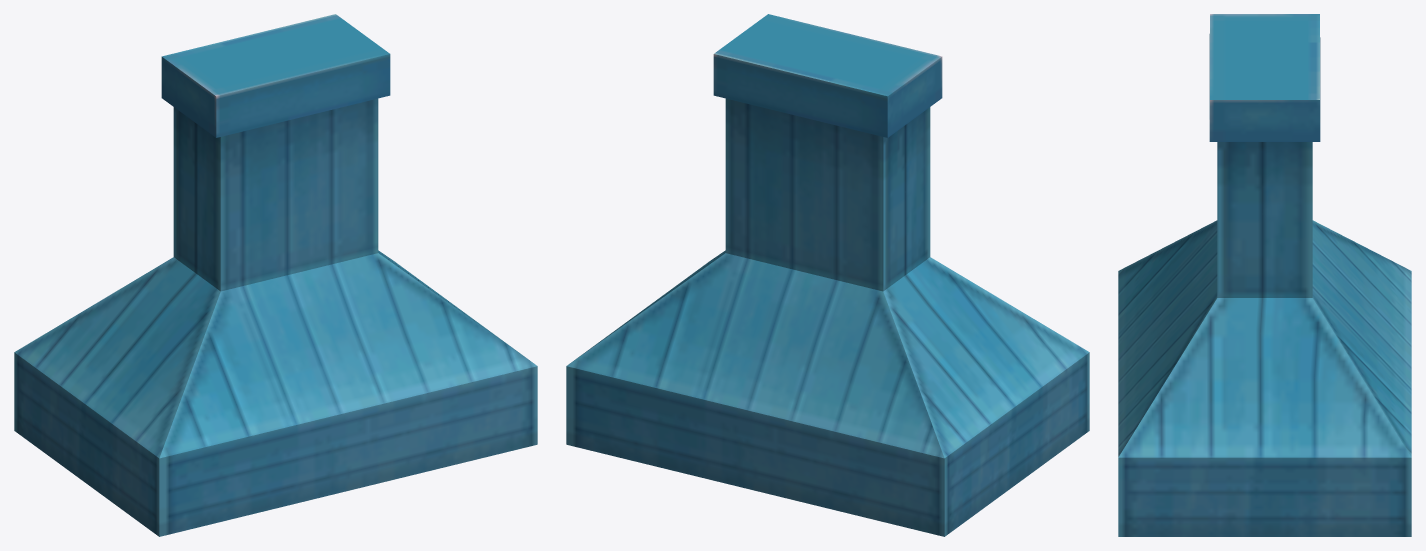
The model's file is furni_0200060_02.FBX.
3 views of the same model, side by side, from view 1: azimuth 30°, elevation 25°; view 2: azimuth 150°, elevation 25°; view 3: azimuth 270°, elevation 25° (orthographic).
Parts seen in each view (by area): view 1: furni_0200060; view 2: furni_0200060; view 3: furni_0200060.
Part boxes in pixels (<box>): furni_0200060: <box>14,14,537,536</box>; furni_0200060: <box>566,14,1089,536</box>; furni_0200060: <box>1118,14,1411,536</box>.
Bounding box in the file's own units: 79.12 × 76.46 × 52.55.
Materials: 1 (1 with a texture image).
